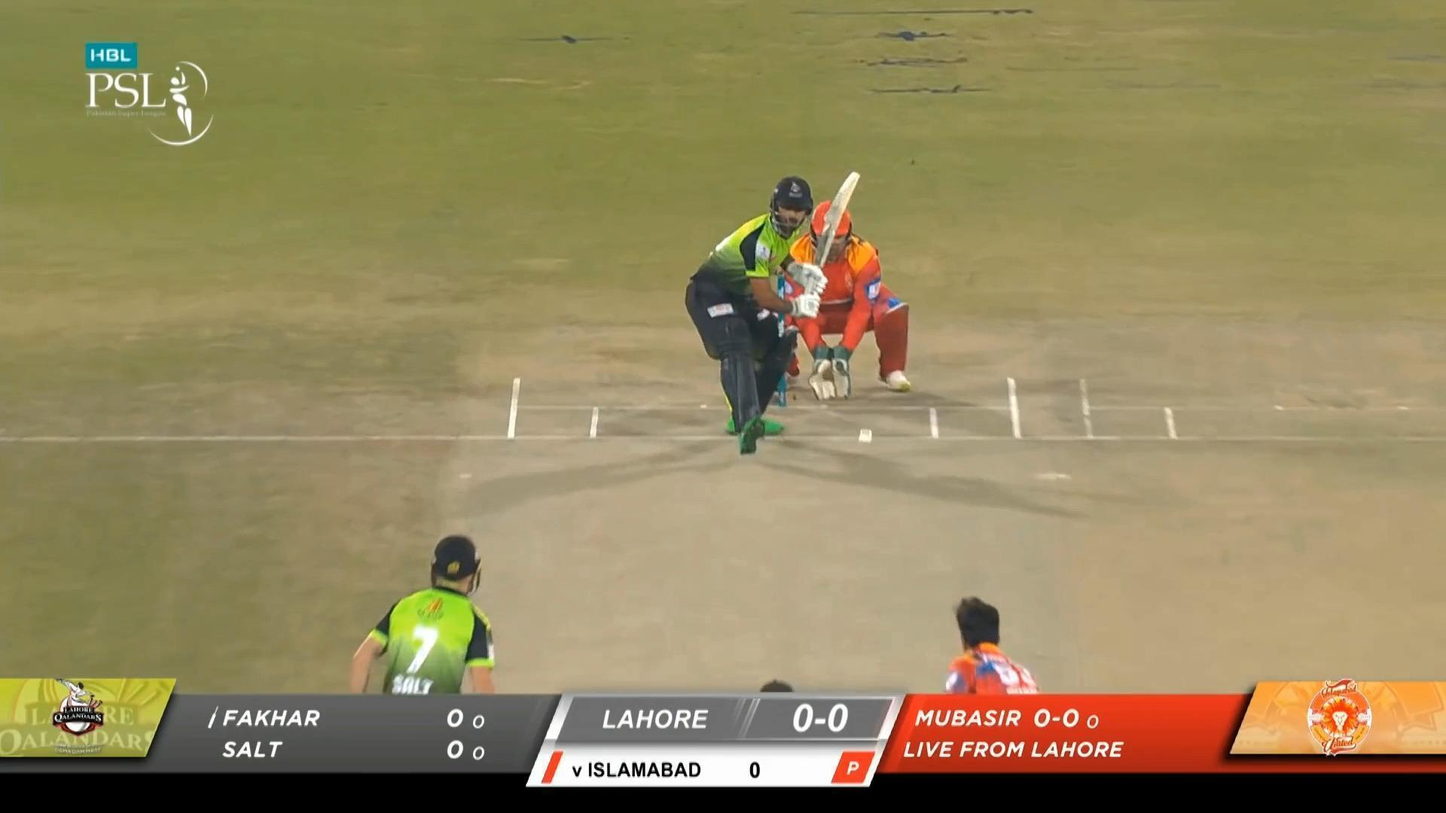BM 1: (684, 169, 865, 457)
BO: (945, 596, 1040, 696)
